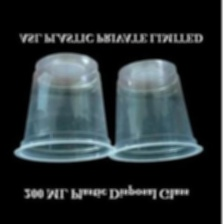glass: (11, 48, 115, 168), (102, 54, 205, 166)
